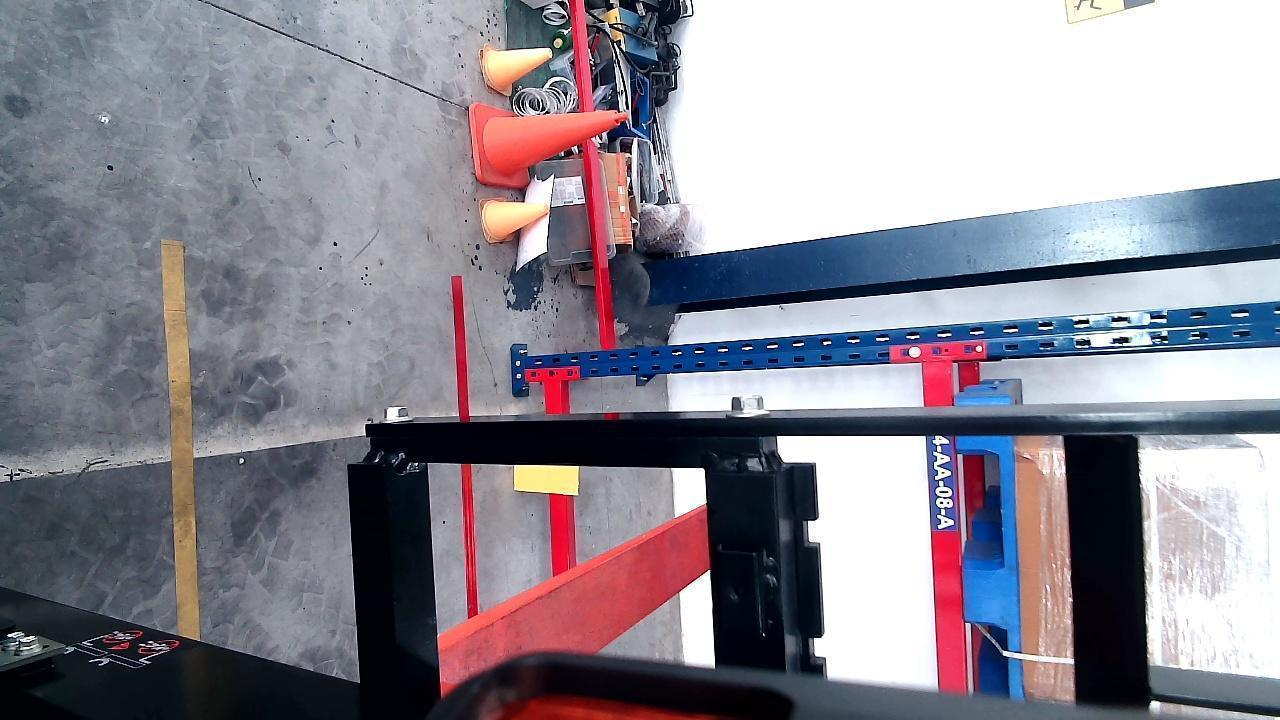red_line: (449, 266, 476, 411)
yellow_line: (168, 234, 198, 640)
